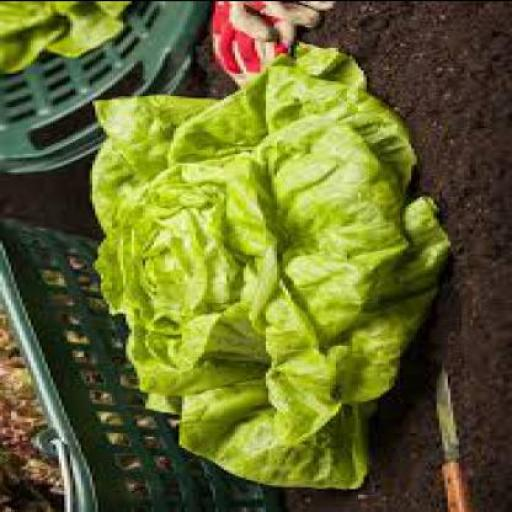biodegradable: (90, 40, 448, 488), (0, 1, 124, 68), (0, 313, 31, 510), (20, 406, 59, 510), (0, 1, 58, 32)
metal: (432, 361, 458, 456)
